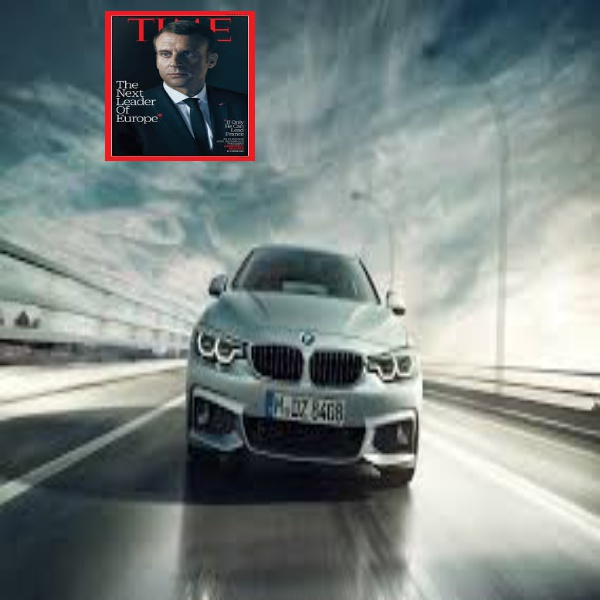time_cover: (102, 0, 258, 166)
